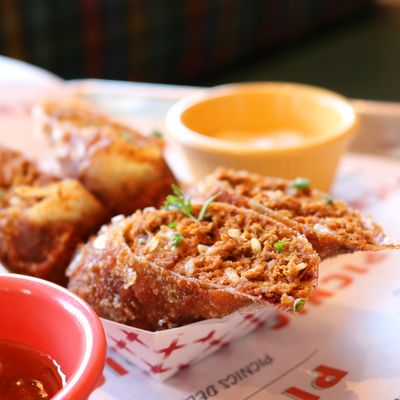sushi: (162, 81, 362, 196), (0, 273, 107, 400)
